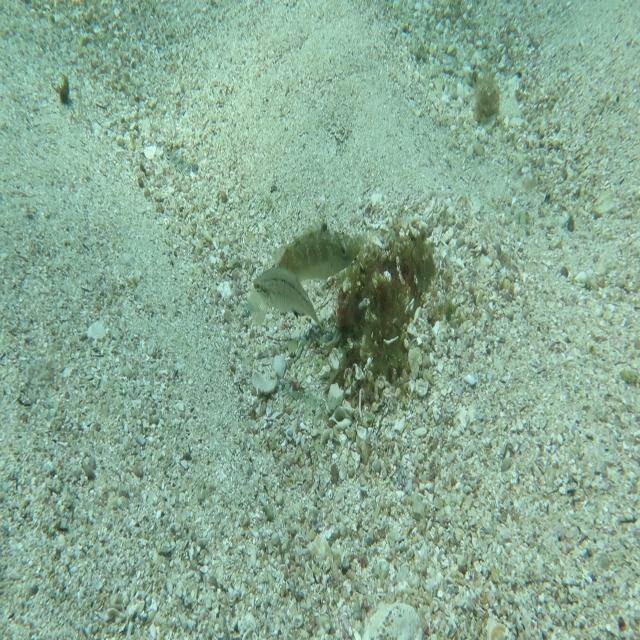LF: (243, 210, 362, 328)
female: (252, 262, 326, 335)
nest: (326, 200, 450, 409)
